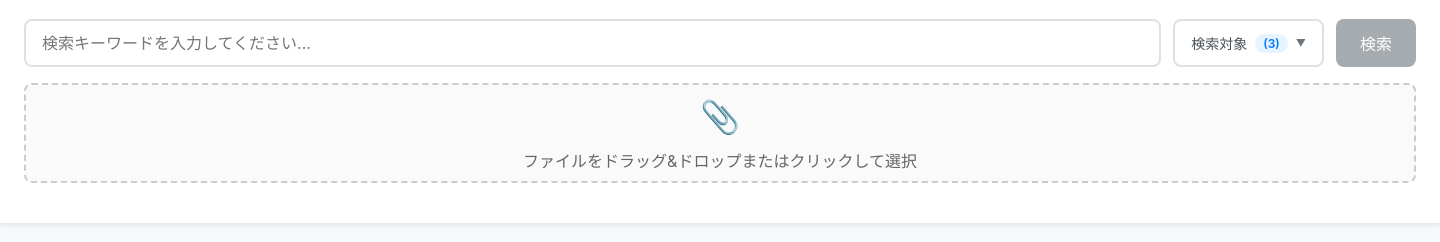
Test case: SearchForm › should enable submit button when query is filled and provider is selected
This screenshot has width=1440, height=242.
Type "防衛費" into the field with placeholder "検索キーワードを入力してください...".
click(593, 43); type("防衛費")  # box [24,19,1161,67]
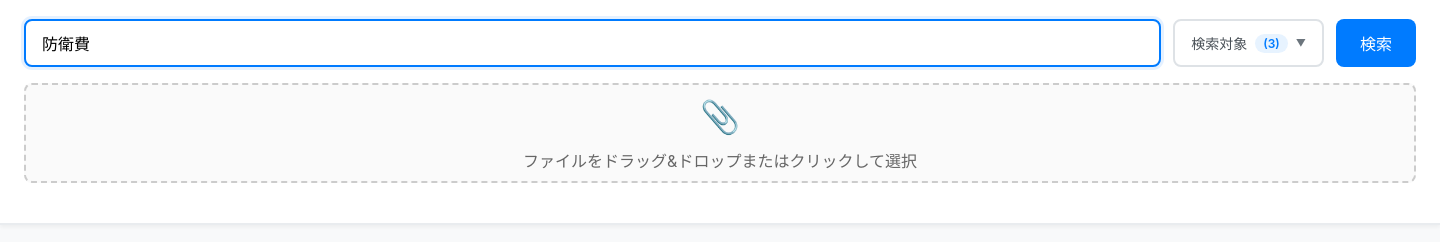
Result: the button "検索" is enabled at [1336,19,1416,67]
